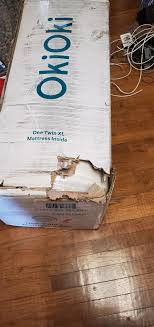damaged package: (22, 140, 117, 203)
